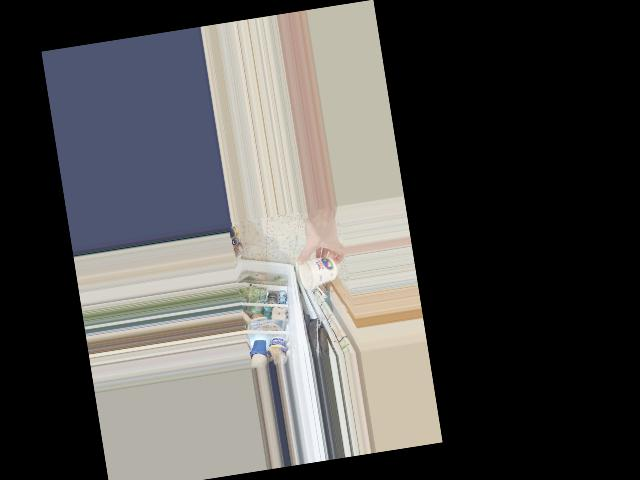cotage: (296, 251, 339, 292)
